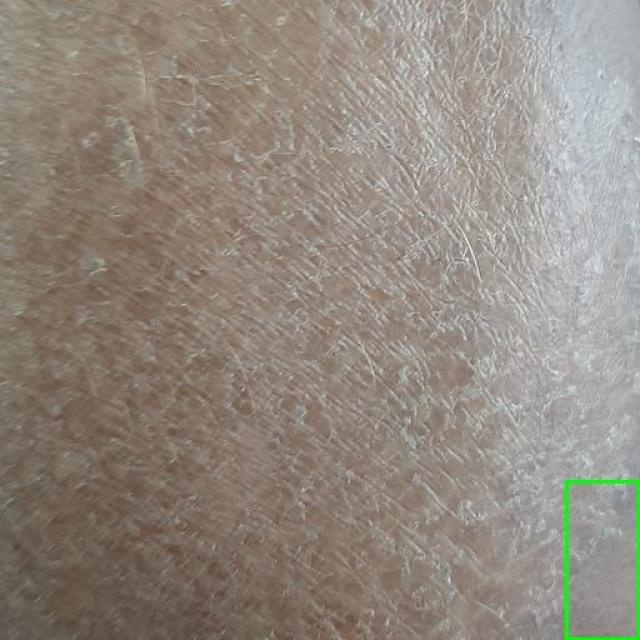Tinea Corporis: (566, 481, 639, 639)
